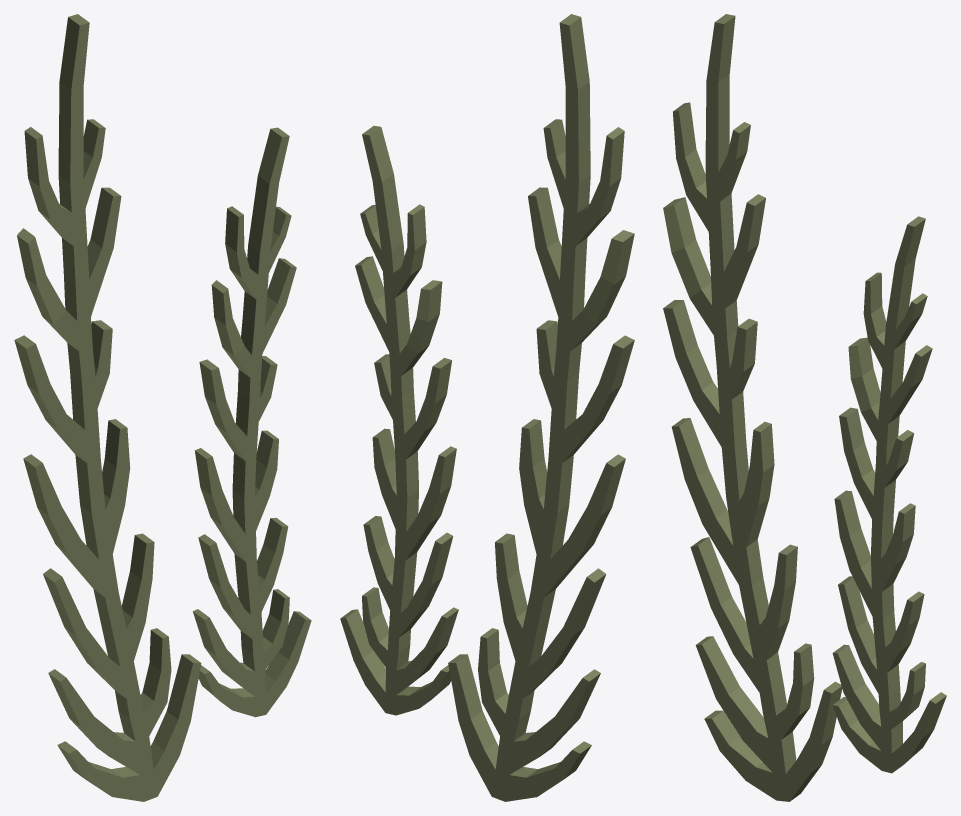
The model's file is Alloro.fbx.
3 views of the same model, side by side, from view 1: azimuth 30°, elevation 25°; view 2: azimuth 150°, elevation 25°; view 3: azimuth 330°, elevation 25° (orthographic). The views are drawn at different scales.
Parts seen in each view (by area): view 1: pPlane6, pPlane7; view 2: pPlane6, pPlane7; view 3: pPlane6, pPlane7.
Boxes of the visible parts, bbox=[...] form: pPlane6: bbox=[14, 14, 201, 801]; pPlane7: bbox=[193, 127, 311, 717]; pPlane6: bbox=[448, 14, 634, 801]; pPlane7: bbox=[340, 125, 458, 715]; pPlane6: bbox=[663, 14, 842, 801]; pPlane7: bbox=[832, 216, 946, 773].
Bounding box in the file's own units: 0.2986 × 0.7955 × 0.0281.
